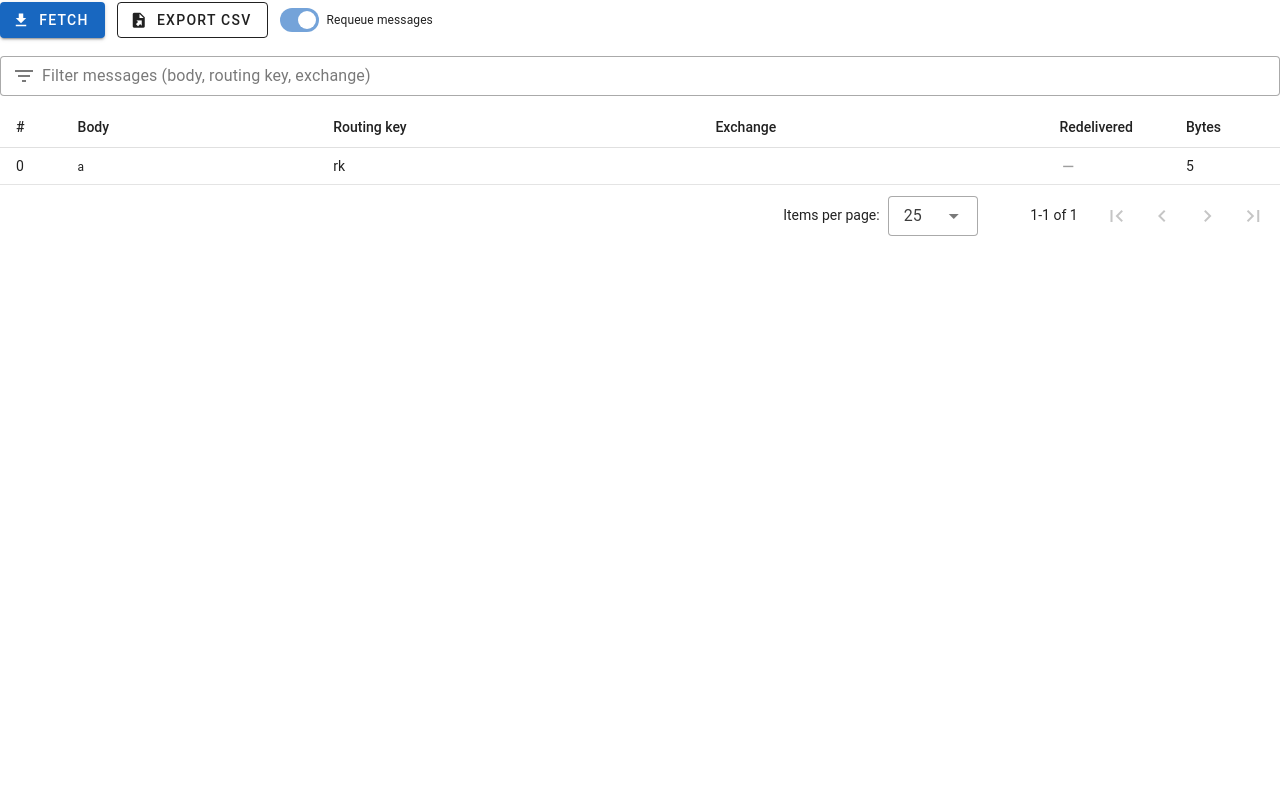
QueueMessageList › CSV export › opens the export dialog when Export CSV is clicked
Click the button with test id "export-btn" at (193, 20), box [117,2,268,38]
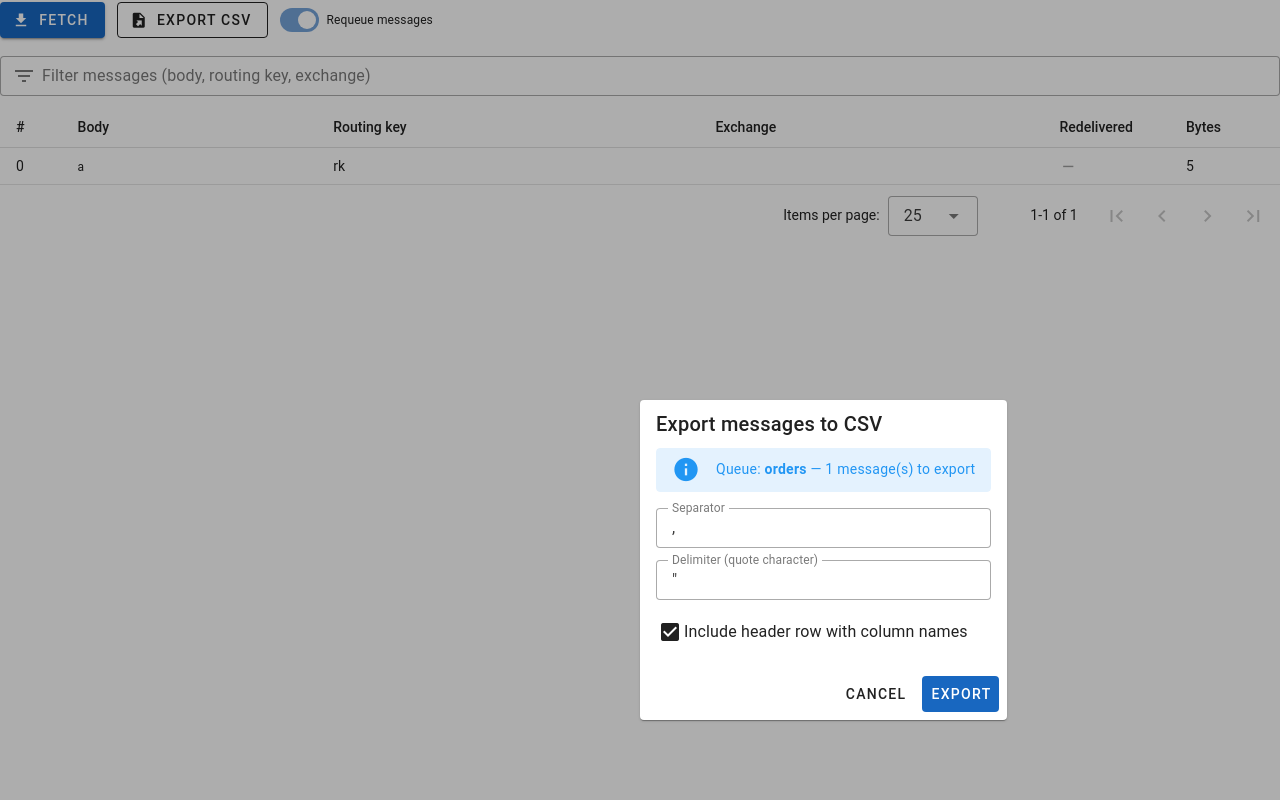
Check: the message "Queue: orders — 1 message(s) to export" is shown, box [656,448,991,492]
Check: the message with test id "export-info" shows "orders", box [764,461,807,477]
